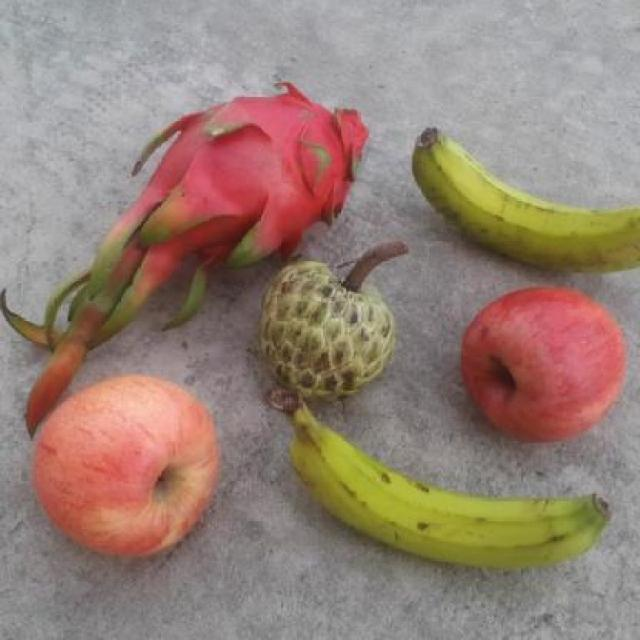apple: (24, 375, 218, 557), (459, 282, 632, 440)
banana: (295, 409, 610, 568), (413, 119, 639, 290)
dragon fruit: (121, 77, 361, 238)
sugar apple: (256, 259, 396, 407)
